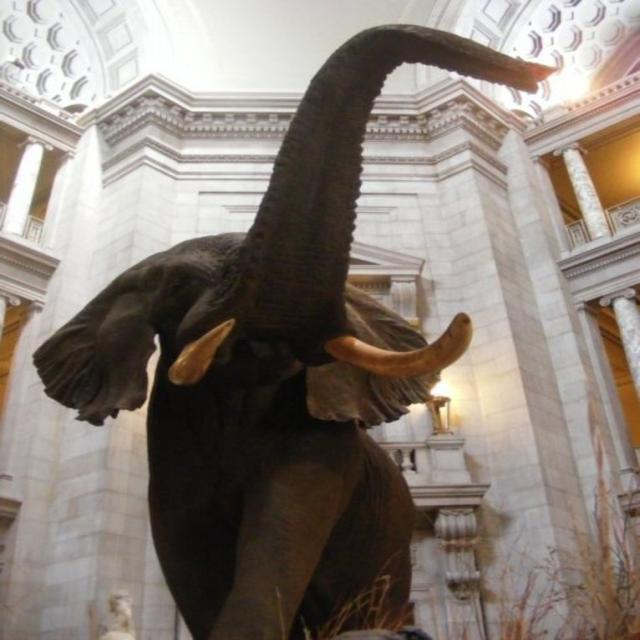elephant: (31, 23, 559, 639)
